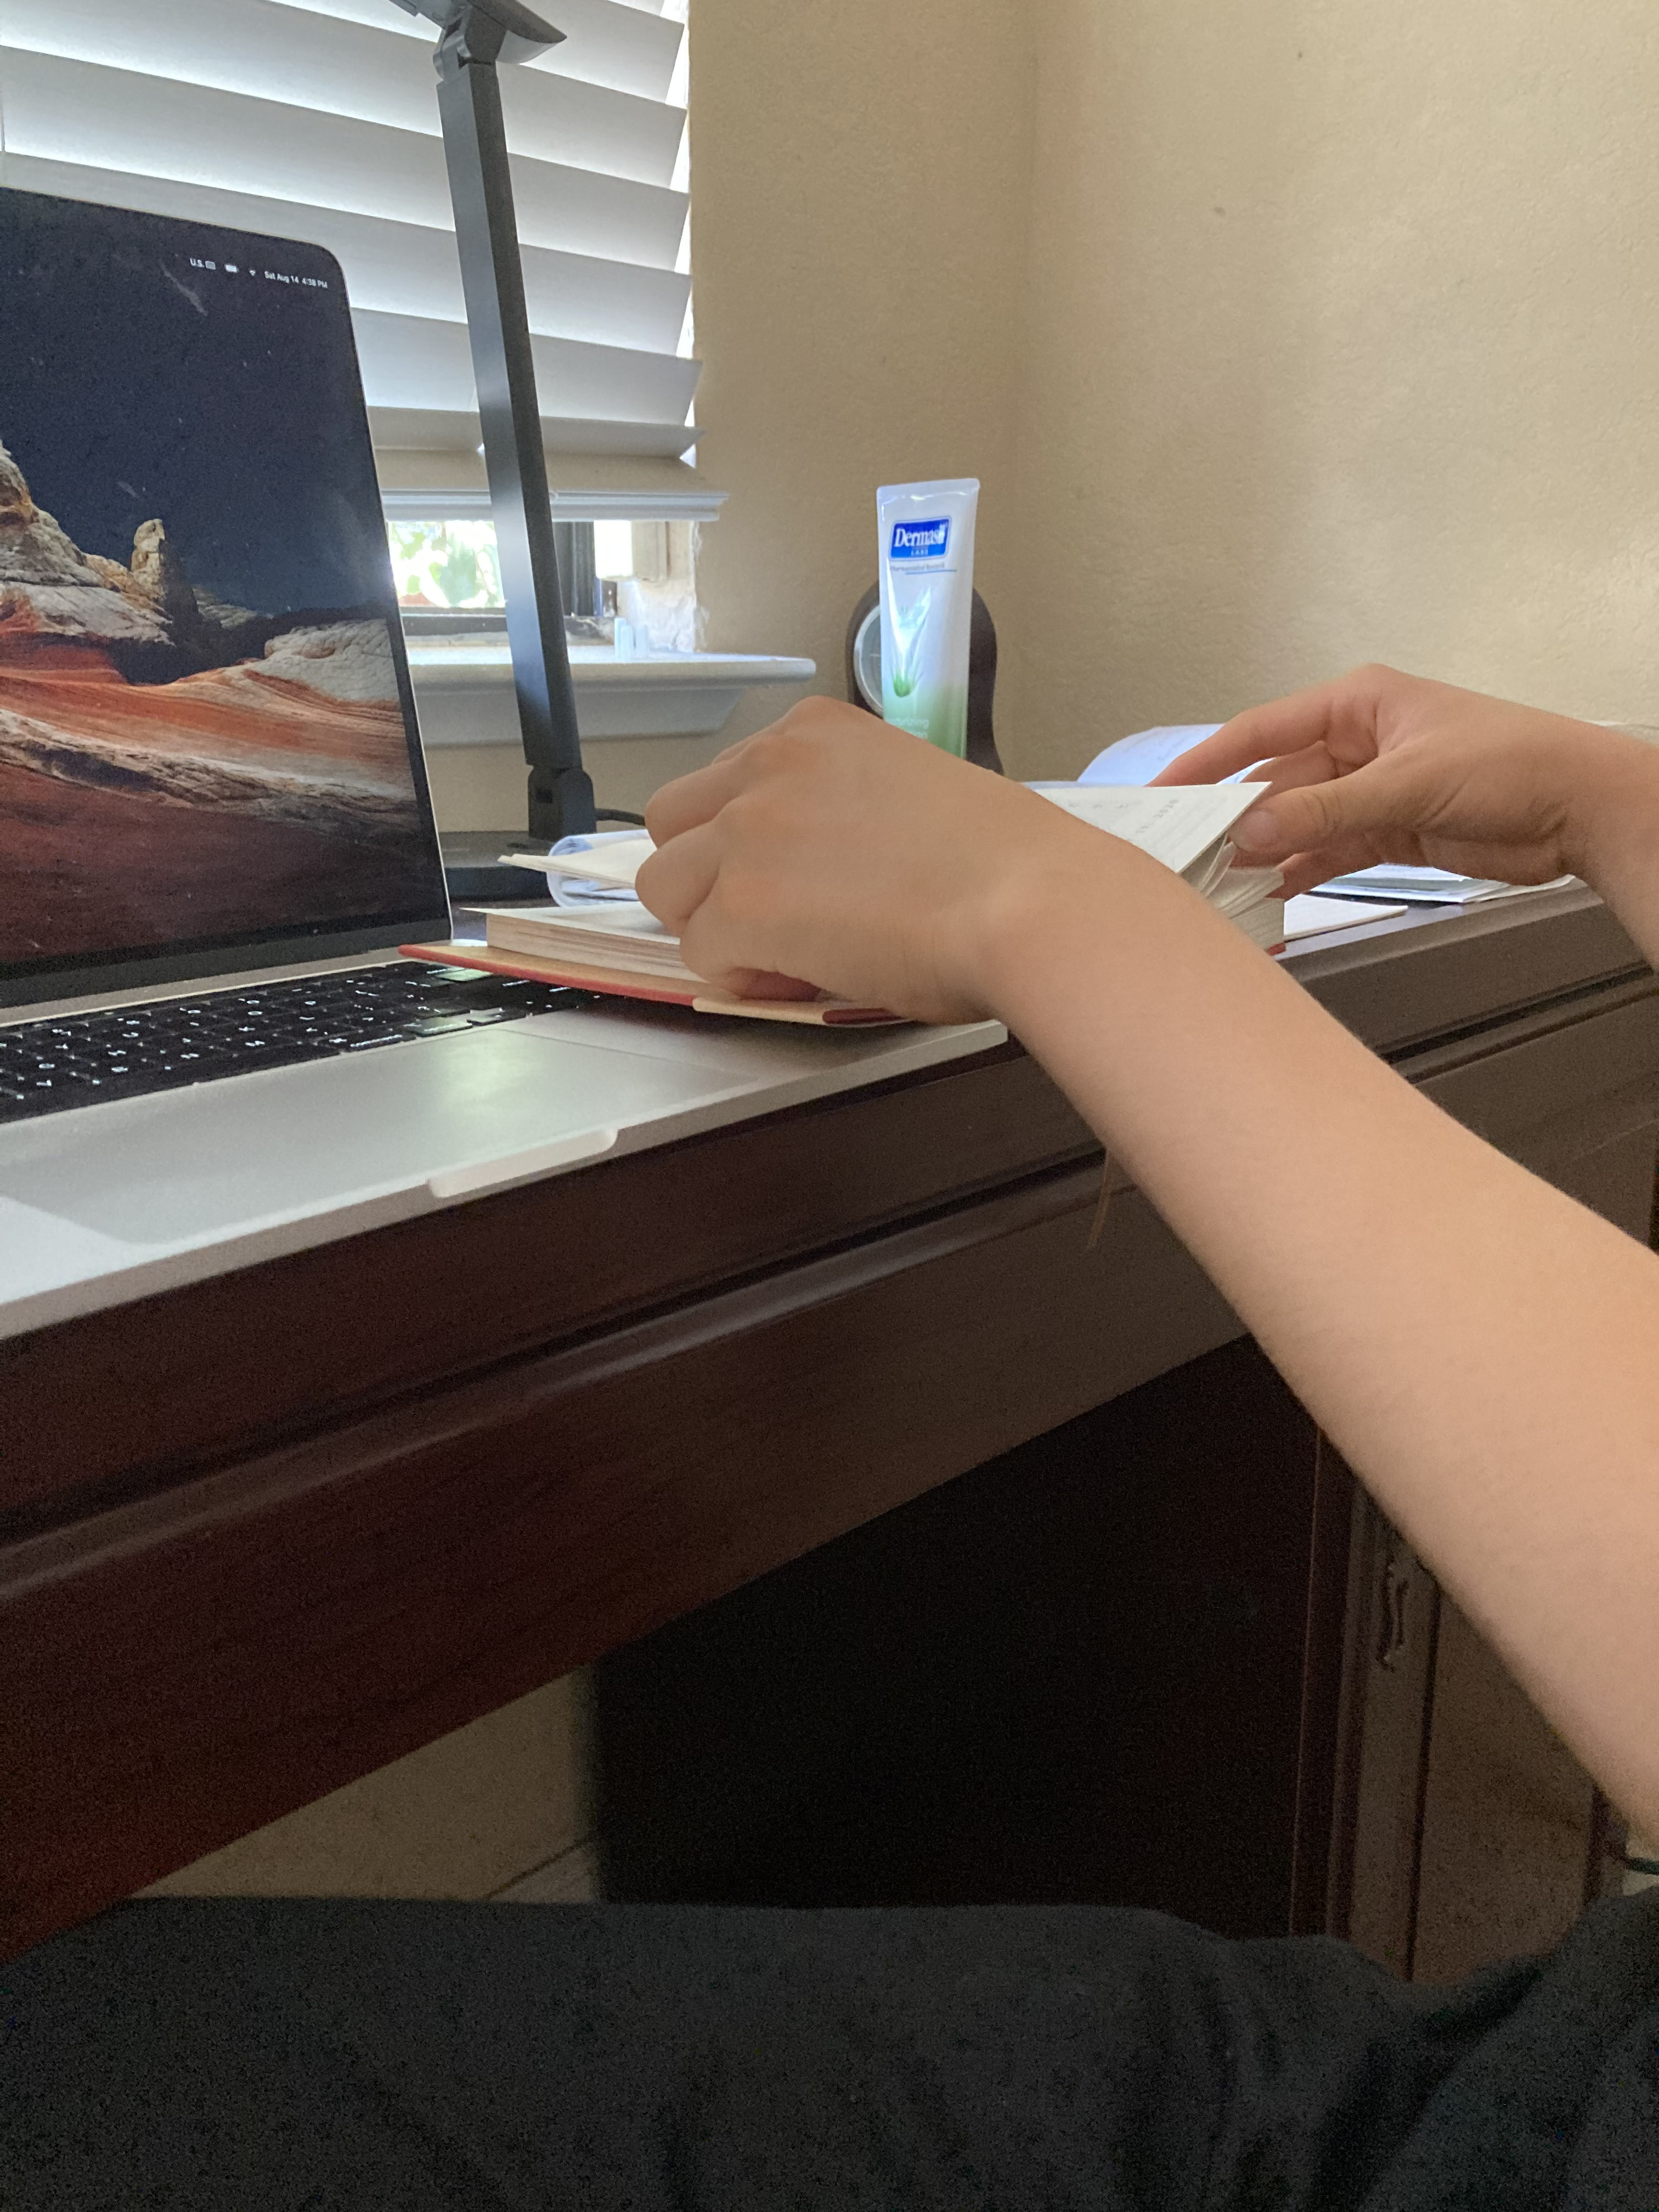Open Book: (429, 770, 1317, 1042)
